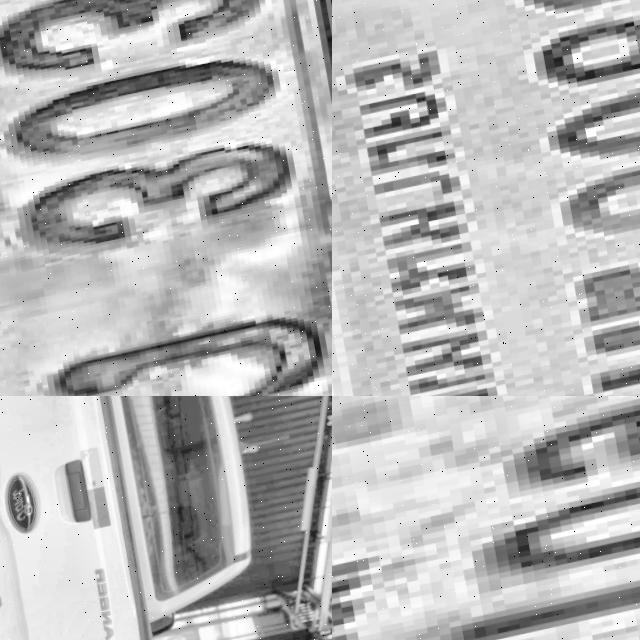license-plate: (0, 0, 332, 396), (332, 0, 640, 396), (332, 396, 640, 640)
